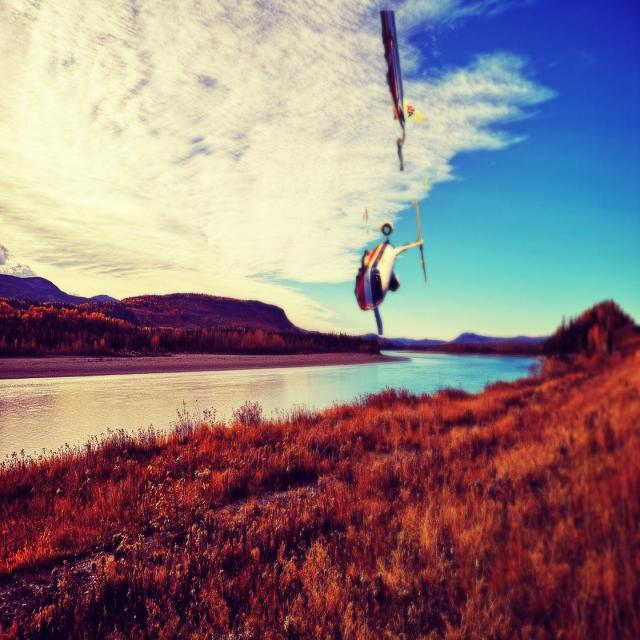airplane: (354, 198, 427, 336), (382, 11, 426, 173)
